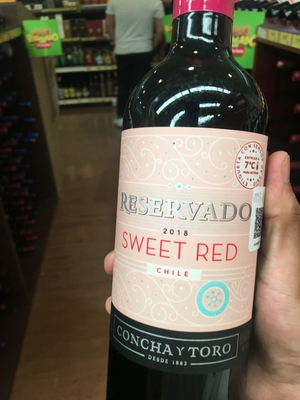reservado sweet red: (106, 20, 279, 400)
